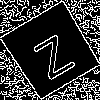Z: (26, 25, 77, 81)
